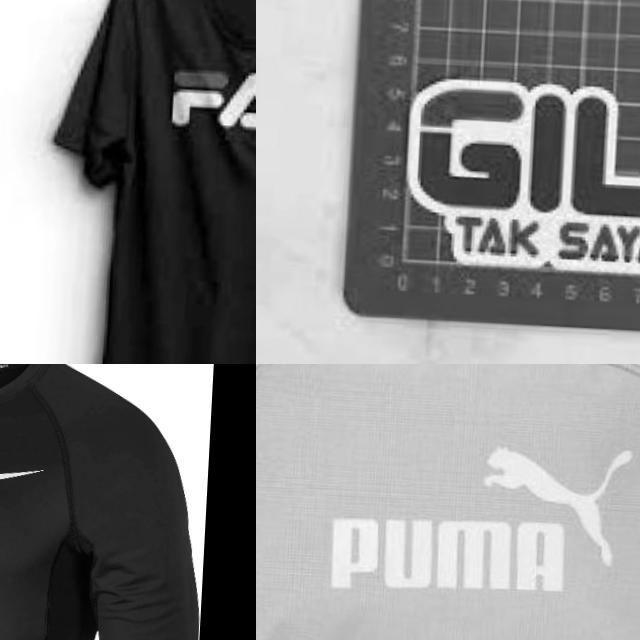FILA_fake: (379, 47, 640, 291), (160, 45, 256, 155)
NIKE_original: (0, 433, 67, 516)
PUMA_original: (302, 416, 640, 614)
